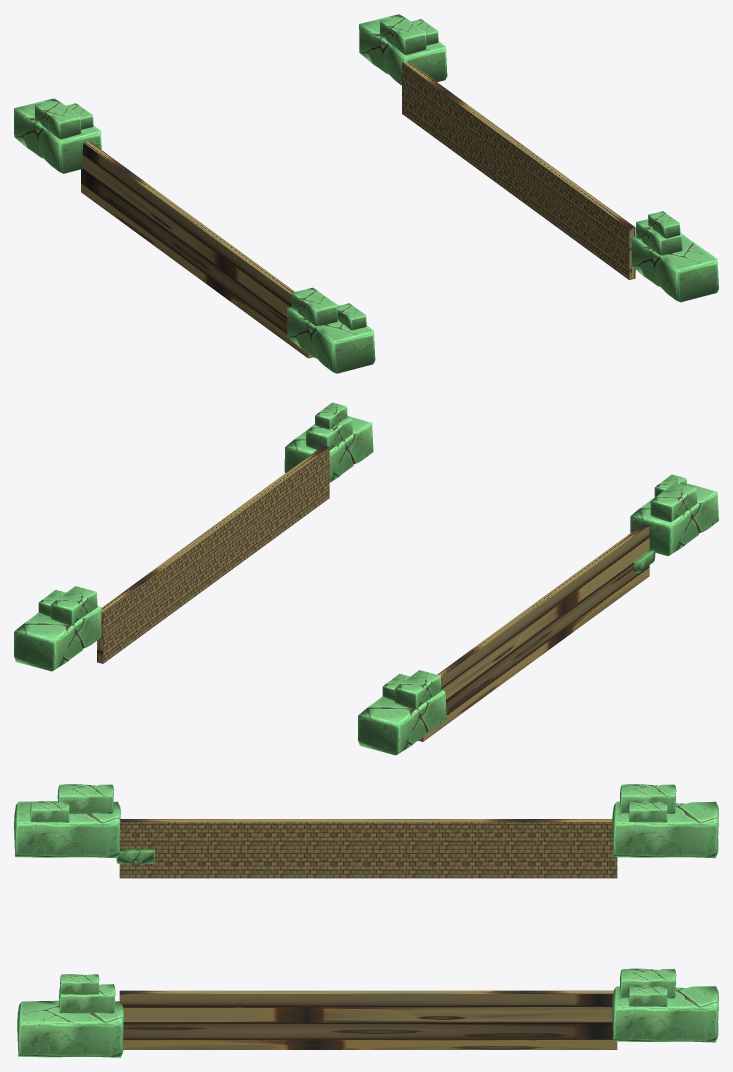
The model's file is wall_east_west.obj.
3 renders of one model, top to bottom at view 1: azimuth 30°, elevation 25°; view 2: azimuth 150°, elevation 25°; view 3: azimuth 270°, elevation 25°, orthographic. The views are drawn at different scales.
Parts seen in each view (by area): view 1: Puente.002, brick3_low.069, brick3_low.095, brick3_low.010, brick3_low.035, brick3_low.009, brick3_low.036, brick3_low.096, brick3_low.068, brick3_low.070, brick3_low.094; view 2: Puente.002, brick3_low.010, brick3_low.035, brick3_low.095, brick3_low.069, brick3_low.096, brick3_low.009, brick3_low.036, brick3_low.068, brick3_low.070; view 3: Puente.002, brick3_low.069, brick3_low.010, brick3_low.035, brick3_low.095, brick3_low.096, brick3_low.068, brick3_low.036, brick3_low.009, brick3_low.094, brick3_low.011, brick3_low.034 (+2 smaller).
Part boxes in pixels (bbox=[...]): Puente.002: bbox=[81, 62, 635, 358]; brick3_low.069: bbox=[631, 233, 718, 302]; brick3_low.095: bbox=[287, 304, 375, 373]; brick3_low.010: bbox=[14, 98, 101, 173]; brick3_low.035: bbox=[359, 14, 447, 85]; brick3_low.009: bbox=[34, 100, 81, 139]; brick3_low.036: bbox=[380, 15, 426, 54]; brick3_low.096: bbox=[291, 287, 337, 326]; brick3_low.068: bbox=[636, 219, 682, 255]; brick3_low.070: bbox=[648, 211, 680, 238]; brick3_low.094: bbox=[337, 303, 366, 330]; Puente.002: bbox=[97, 445, 649, 741]; brick3_low.010: bbox=[358, 690, 446, 755]; brick3_low.035: bbox=[14, 606, 101, 671]; brick3_low.095: bbox=[630, 483, 718, 555]; brick3_low.069: bbox=[284, 416, 373, 482]; brick3_low.096: bbox=[650, 482, 697, 522]; brick3_low.009: bbox=[394, 670, 441, 709]; brick3_low.036: bbox=[51, 586, 97, 625]; brick3_low.068: bbox=[306, 417, 352, 449]; brick3_low.070: bbox=[315, 402, 347, 429]; Puente.002: bbox=[119, 819, 617, 1049]; brick3_low.069: bbox=[17, 1000, 123, 1057]; brick3_low.010: bbox=[612, 801, 718, 858]; brick3_low.035: bbox=[612, 986, 718, 1042]; brick3_low.095: bbox=[14, 801, 120, 858]; brick3_low.096: bbox=[57, 784, 113, 813]; brick3_low.068: bbox=[59, 984, 115, 1013]; brick3_low.036: bbox=[620, 968, 676, 998]; brick3_low.009: bbox=[620, 784, 676, 813]; brick3_low.094: bbox=[30, 801, 69, 822]; brick3_low.011: bbox=[628, 801, 667, 822]; brick3_low.034: bbox=[628, 986, 667, 1006].
Size of the model in its own units: 2366 by 430 by 3401.
